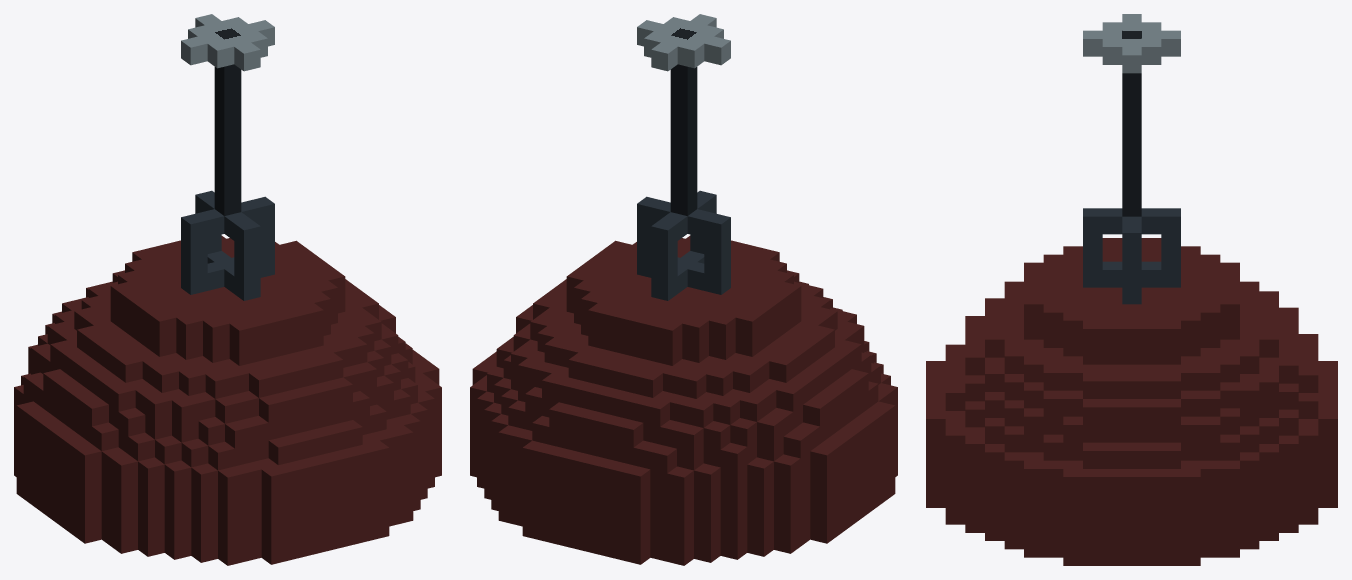
File: lampy_9.dae
The picture shows the model from 3 angles, left to right: view 1: azimuth 30°, elevation 25°; view 2: azimuth 150°, elevation 25°; view 3: azimuth 270°, elevation 25°; orthographic projection.
Parts seen in each view (by area): view 1: Content; view 2: Content; view 3: Content.
Boxes of the visible parts, x1,y1,x2,y2 form: Content: (14, 14, 441, 565); Content: (470, 14, 897, 565); Content: (926, 14, 1337, 565).
Size of the model in its own units: 21 by 25 by 21.
1 material, 1 textured.
